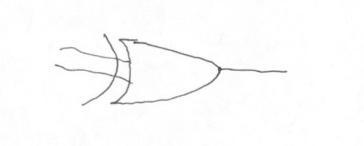XOR: (92, 20, 229, 111)
